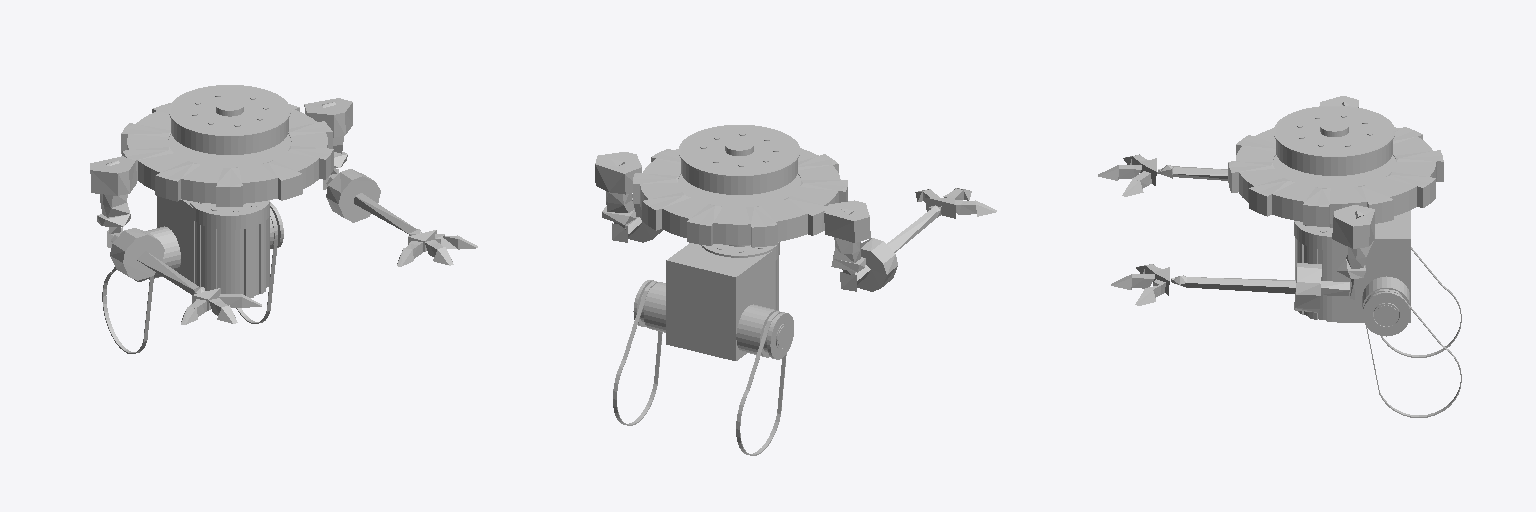
The model's file is RobotRece_000003.obj.
The picture shows the model from 3 angles: view 1: azimuth 30°, elevation 25°; view 2: azimuth 150°, elevation 25°; view 3: azimuth 270°, elevation 25°; orthographic projection.
Visible parts, largest first — view 1: Cylinder.007, Cube_Cube.003; view 2: Cylinder.007, Cube_Cube.003; view 3: Cylinder.007, Cube_Cube.003.
Boxes of the visible parts, <box> form: Cylinder.007: <box>102,85,333,353</box>; Cube_Cube.003: <box>90,98,477,324</box>; Cylinder.007: <box>613,125,847,455</box>; Cube_Cube.003: <box>595,152,996,291</box>; Cylinder.007: <box>1228,106,1461,417</box>; Cube_Cube.003: <box>1098,96,1374,312</box>.
Bounding box in the file's own units: 4.59 × 3.78 × 4.76.